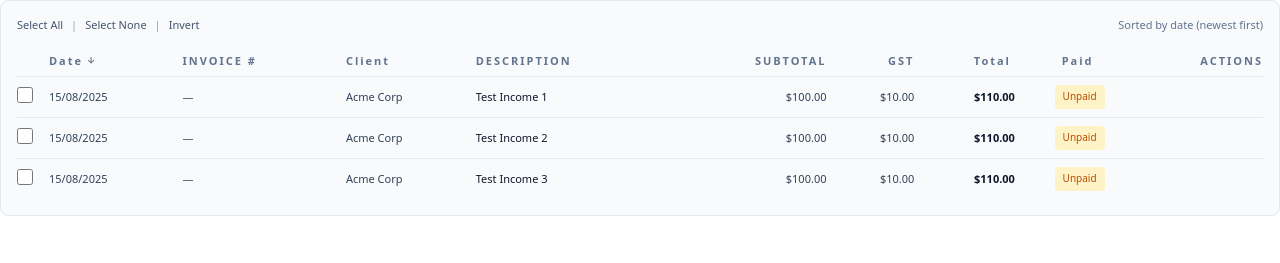
Test: IncomesTable › Bulk Operations › selects all rows when "Select All" is clicked
Click the button "Select All".
click(40, 25)  # box [17,17,63,34]
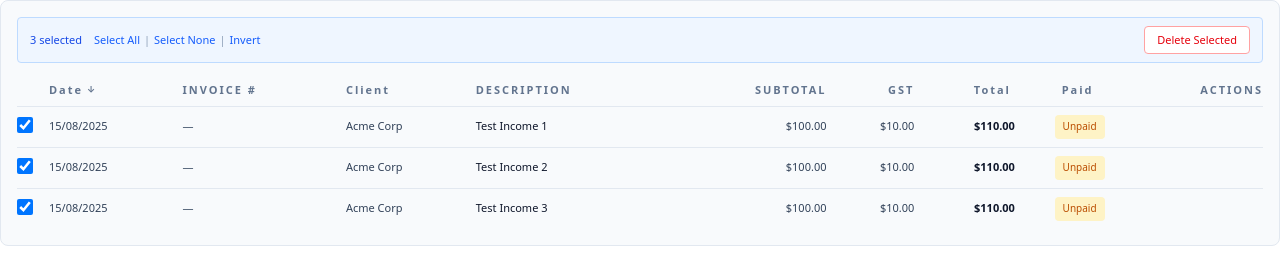
Result: the checkbox named "select income" is checked at [17,117,33,133]
